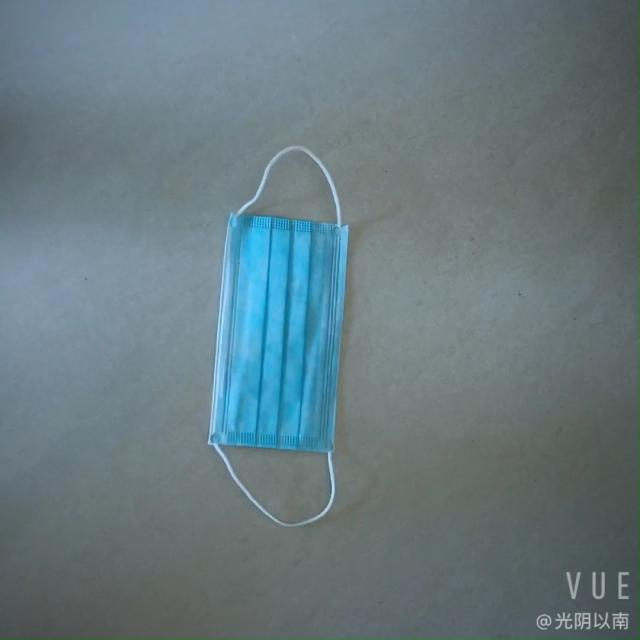non-organic waste: (204, 202, 376, 459)
